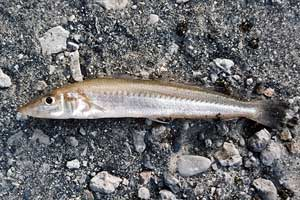kiss: (19, 72, 288, 131)
